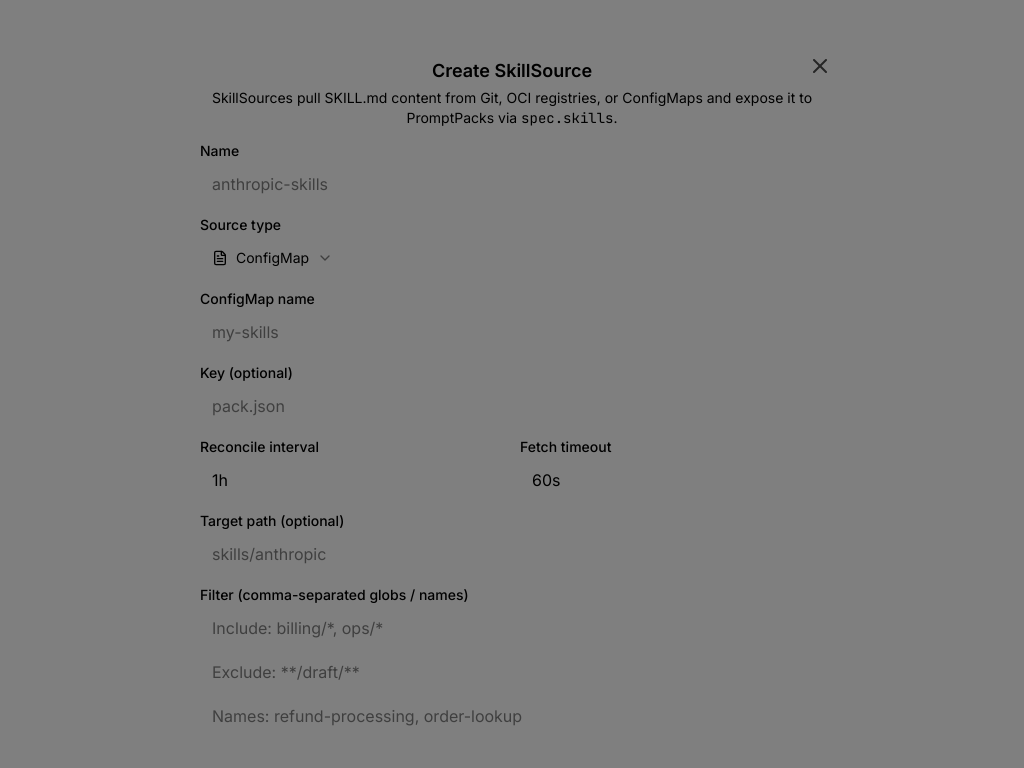
Scenario: SkillSourceDialog › shows inline DNS error on keystroke for invalid name
Type "Has Spaces" into the field labelled "Name" at (512, 184), box [200,166,824,202]
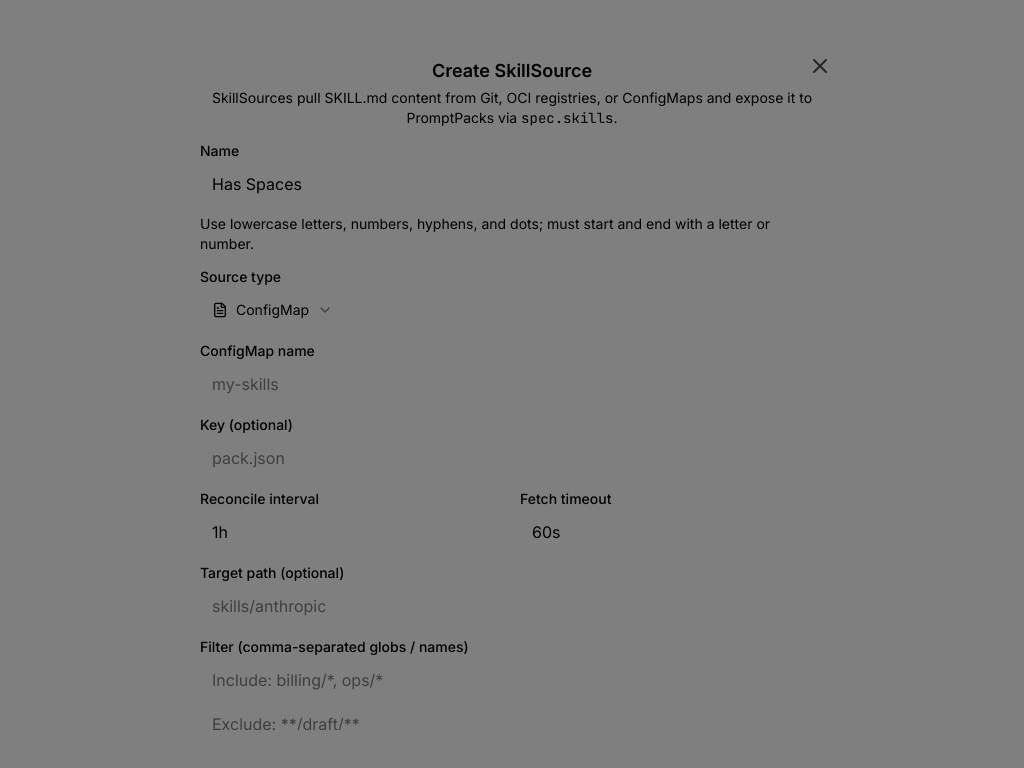
Expected: the text "lowercase letters" is shown, [200,215,770,252]
